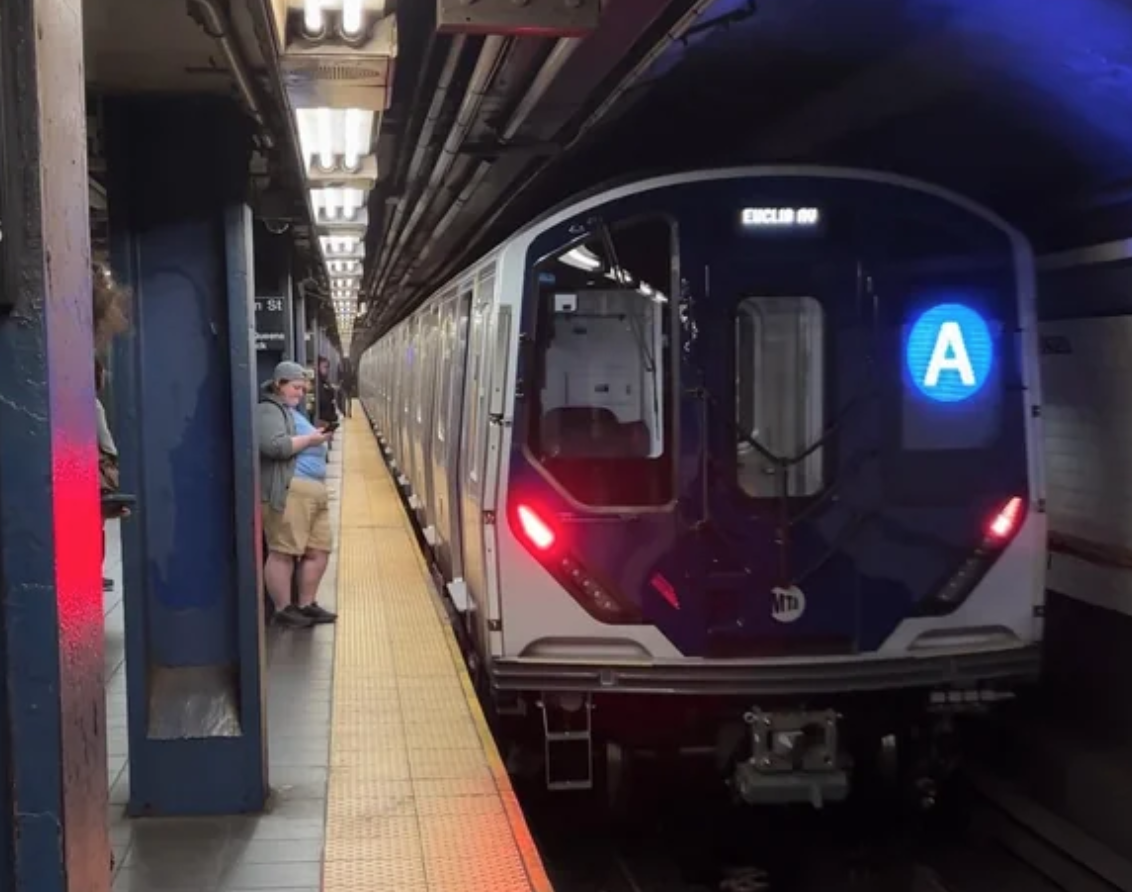train: (438, 158, 1053, 703)
